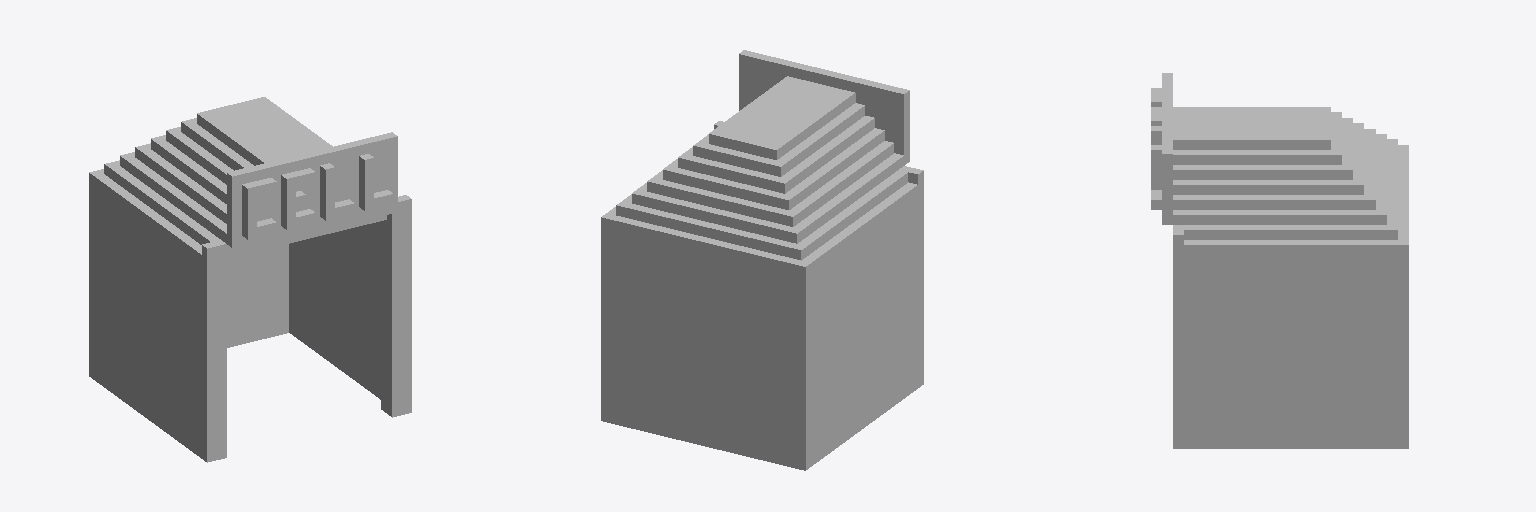
File: Cell.obj
3 views of the same model, side by side, from view 1: azimuth 30°, elevation 25°; view 2: azimuth 150°, elevation 25°; view 3: azimuth 270°, elevation 25° (orthographic).
Bounding box in the file's own units: 21 × 28 × 23.